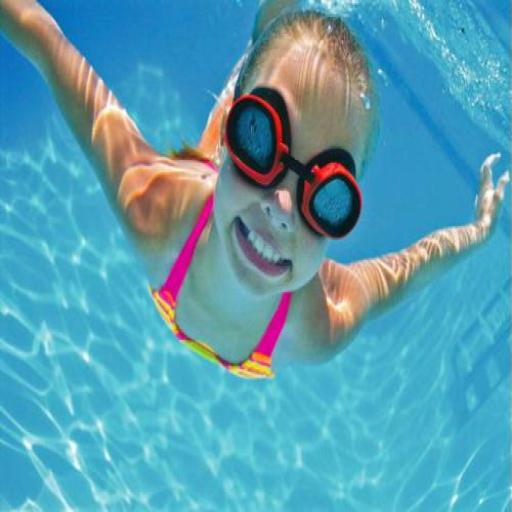swimming: (0, 0, 509, 384)
